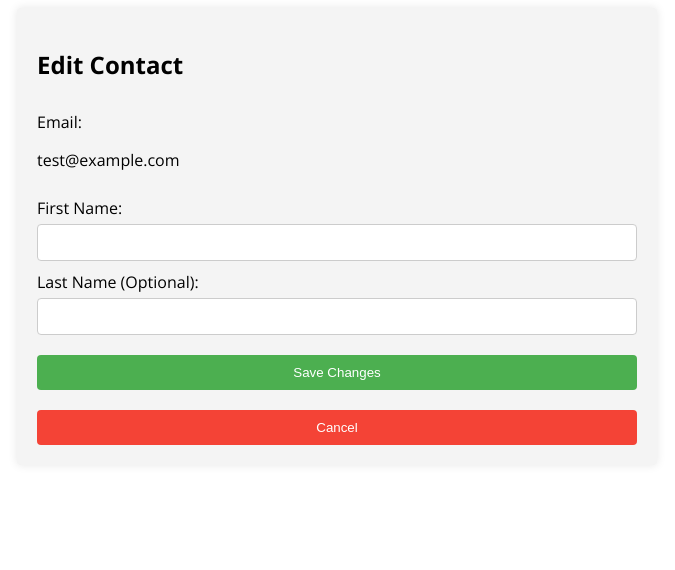
Test case: EditContactPage Component › Gives the correct message when last name is too big
Step 1. Type "bbbbbbbbbbbbbbbbbbbbbbbbbbbbbbb" into the field labelled "Last Name (Optional):" → (337, 316), box [37, 298, 637, 335]
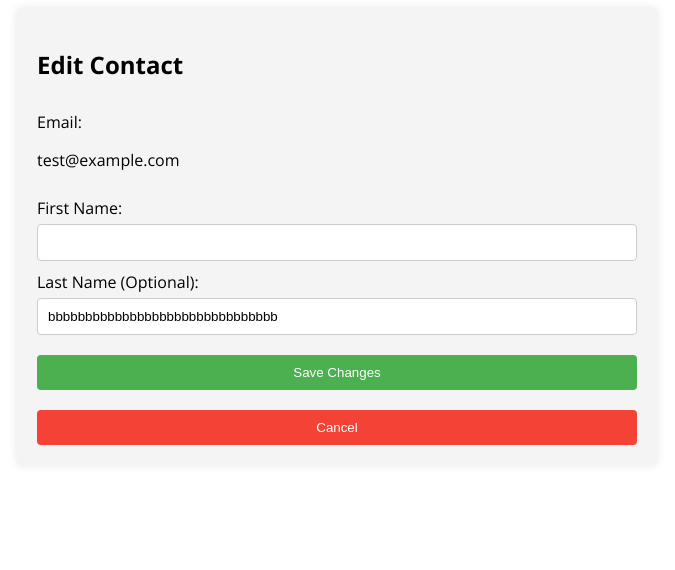
Step 2. Click the button "Save Changes" → (337, 372), box [37, 355, 637, 390]
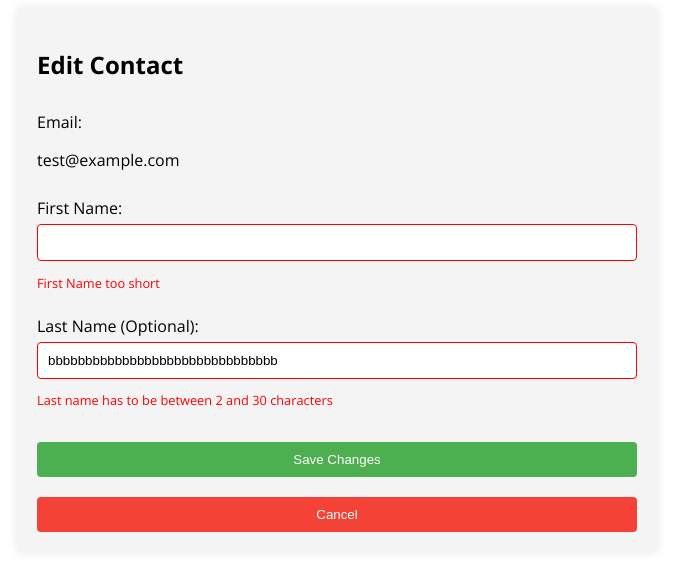
Now the text "Last name has to be between 2 and 30 characters" is shown, box [37, 391, 333, 409]
